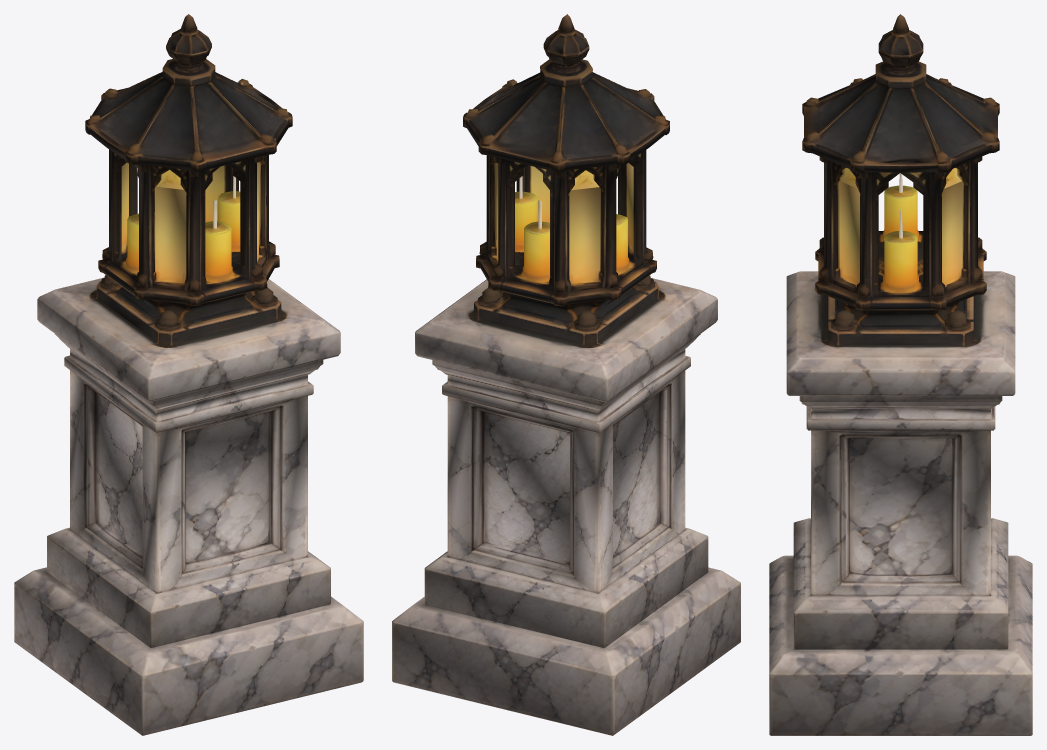
The model's file is SM_Env_LanternPlinth.fbx.
3 renders of one model, left to right at view 1: azimuth 30°, elevation 25°; view 2: azimuth 150°, elevation 25°; view 3: azimuth 270°, elevation 25°, orthographic. The views are drawn at different scales.
Parts seen in each view (by area): view 1: SM_Env_LanternPlinth; view 2: SM_Env_LanternPlinth; view 3: SM_Env_LanternPlinth.
Boxes of the visible parts, x1,y1,x2,y2 form: SM_Env_LanternPlinth: [14, 14, 363, 735]; SM_Env_LanternPlinth: [392, 14, 740, 735]; SM_Env_LanternPlinth: [769, 14, 1032, 735].
Bounding box in the file's own units: 25.07 × 25.07 × 70.
Materials: 1 (1 with a texture image).
